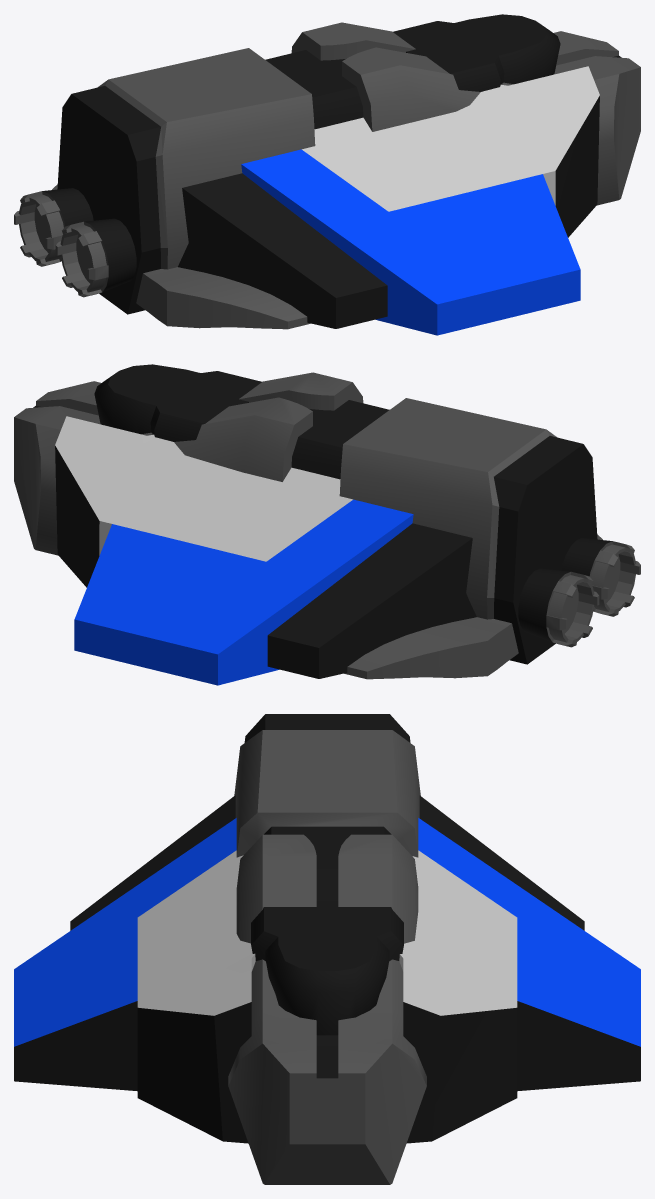
File: Medium_01.FBX
3 renders of one model, top to bottom at view 1: azimuth 30°, elevation 25°; view 2: azimuth 150°, elevation 25°; view 3: azimuth 270°, elevation 25°, orthographic. The views are drawn at different scales.
Visible parts, largest first — view 1: Object003; view 2: Object003; view 3: Object003.
Part boxes in pixels (left/top/right/bottom): Object003: left=14, top=14, right=640, bottom=335; Object003: left=14, top=364, right=640, bottom=685; Object003: left=14, top=714, right=640, bottom=1184.
Size of the model in its own units: 52.86 by 45.22 by 16.62.
